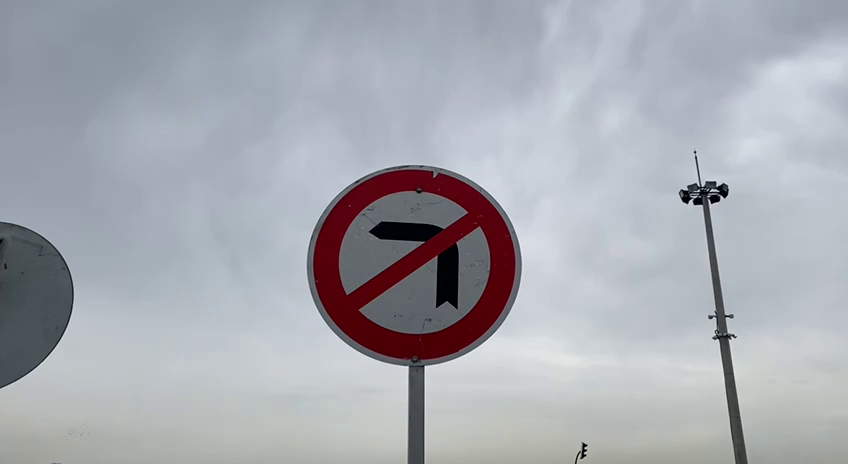noTurnLeft: (302, 165, 526, 369)
